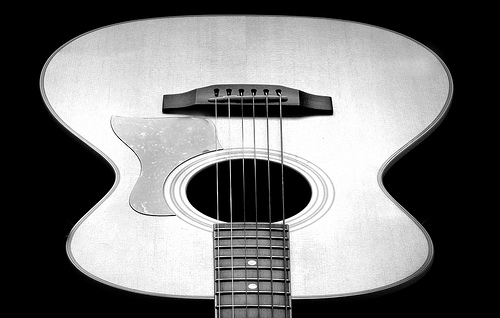guitar: (37, 15, 456, 318)
